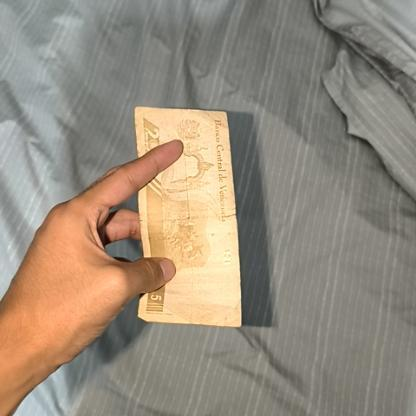five-back-vef: (134, 107, 242, 330)
